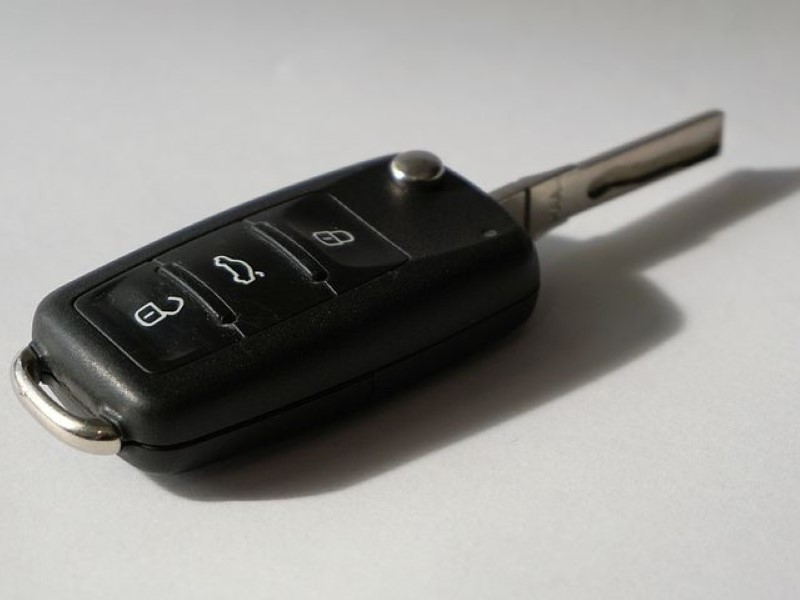carkey: (5, 102, 730, 483)
